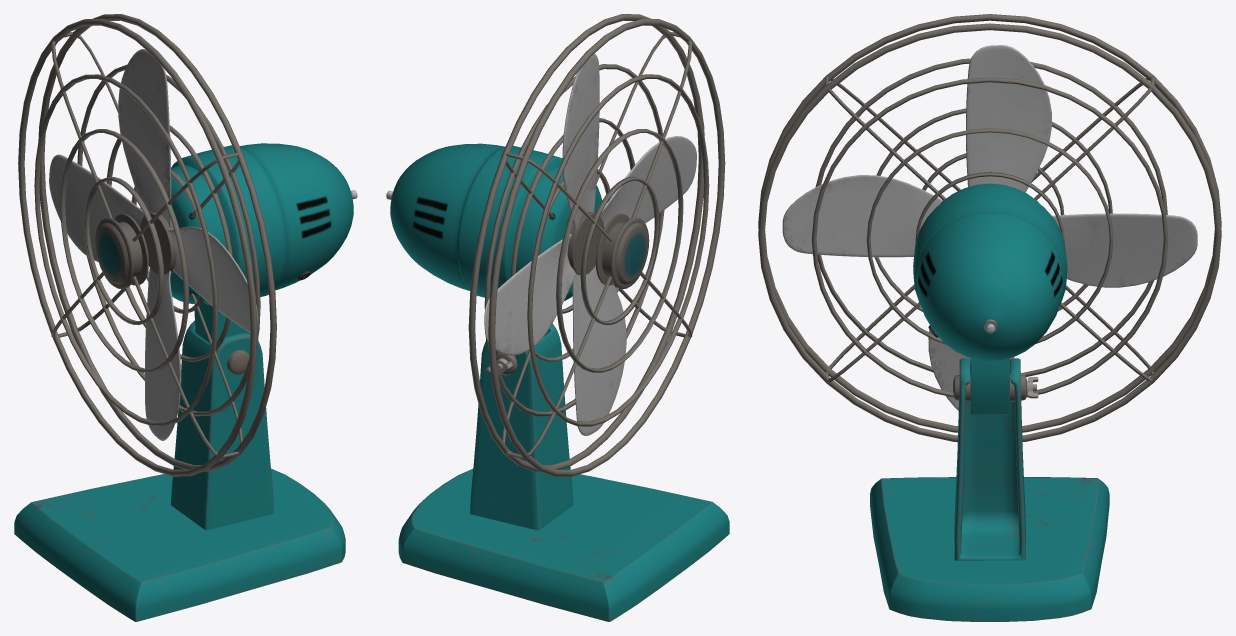
Rendered from fan.gltf.
3 renders of one model, left to right at view 1: azimuth 30°, elevation 25°; view 2: azimuth 150°, elevation 25°; view 3: azimuth 270°, elevation 25°, orthographic.
Parts seen in each view (by area): view 1: polySurface5_MAT_FanBase_0, polySurface6_MAT_FanBase_0; view 2: polySurface5_MAT_FanBase_0, polySurface6_MAT_FanBase_0; view 3: polySurface5_MAT_FanBase_0, polySurface6_MAT_FanBase_0.
Part boxes in pixels (bbox=[...]): polySurface5_MAT_FanBase_0: bbox=[14, 14, 357, 621]; polySurface6_MAT_FanBase_0: bbox=[49, 49, 258, 440]; polySurface5_MAT_FanBase_0: bbox=[386, 14, 729, 621]; polySurface6_MAT_FanBase_0: bbox=[484, 53, 696, 435]; polySurface5_MAT_FanBase_0: bbox=[758, 14, 1221, 621]; polySurface6_MAT_FanBase_0: bbox=[782, 45, 1197, 410].
Bounding box in the file's own units: 1.1 × 1.94 × 1.56.
Materials: 1 (1 with a texture image).
